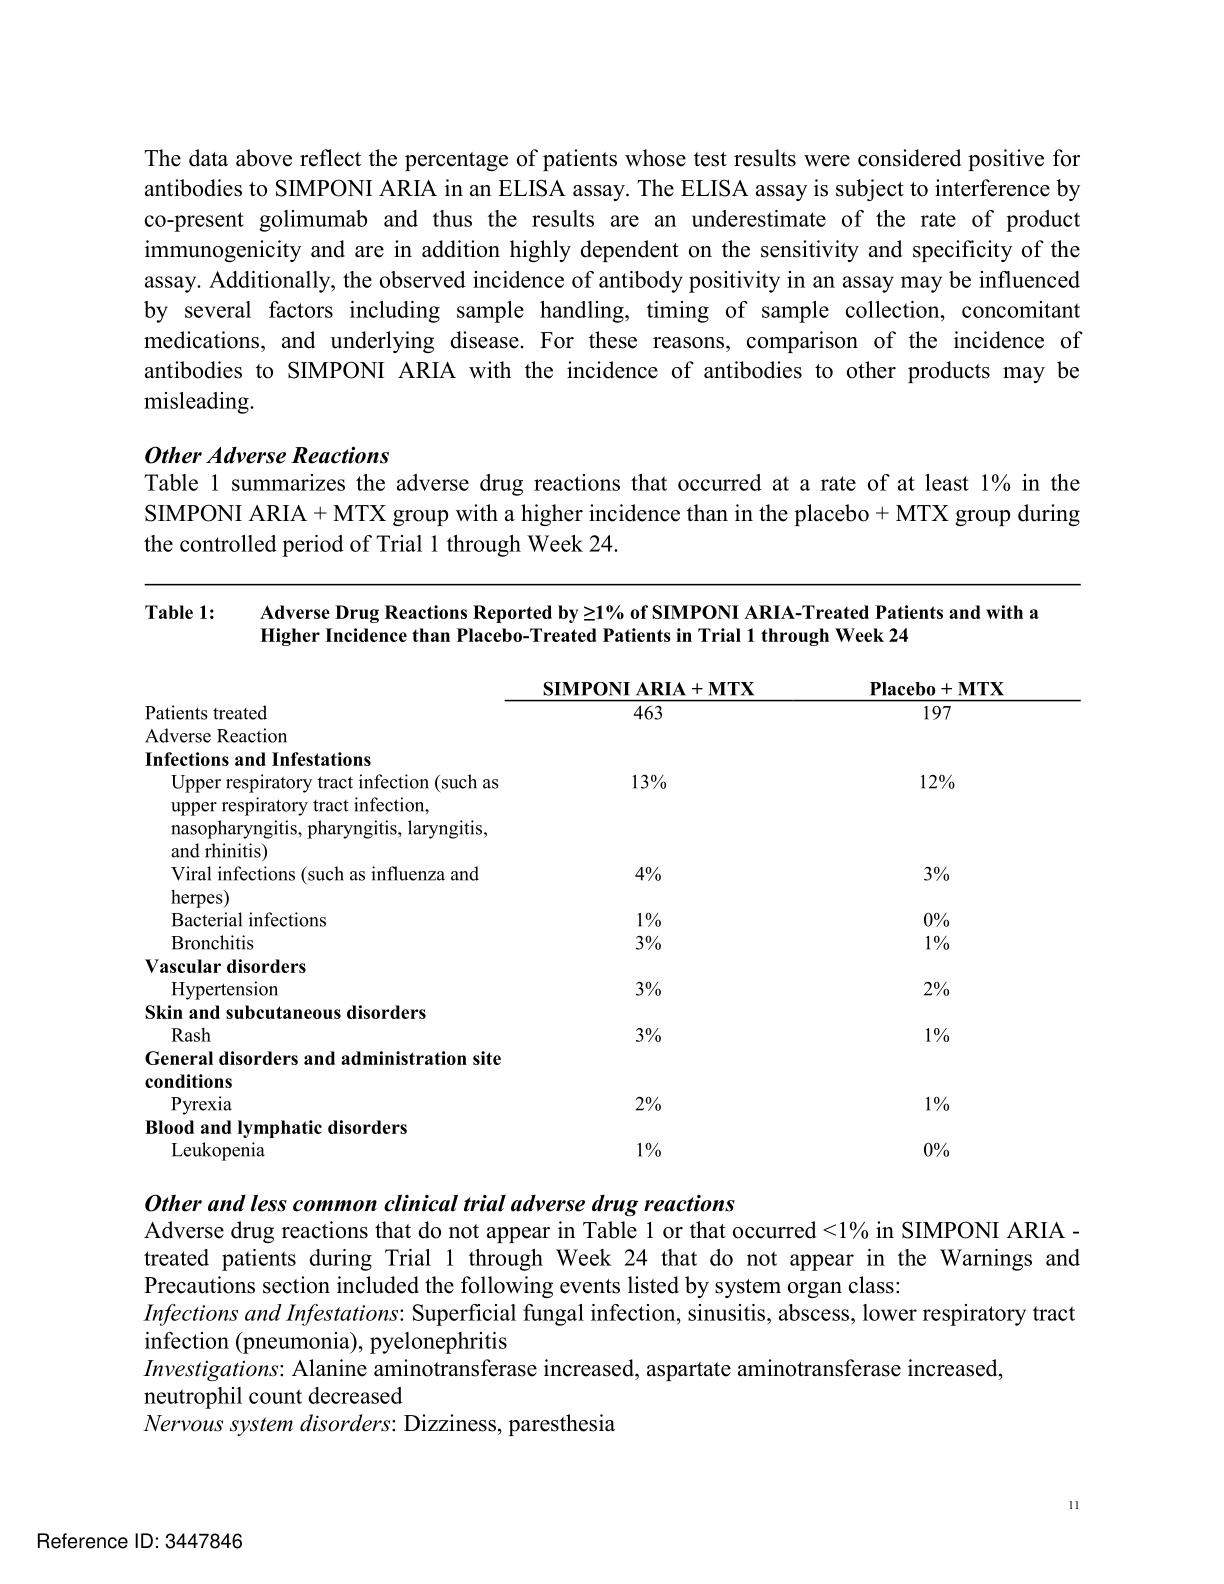nolines: (139, 678, 1083, 1162)
